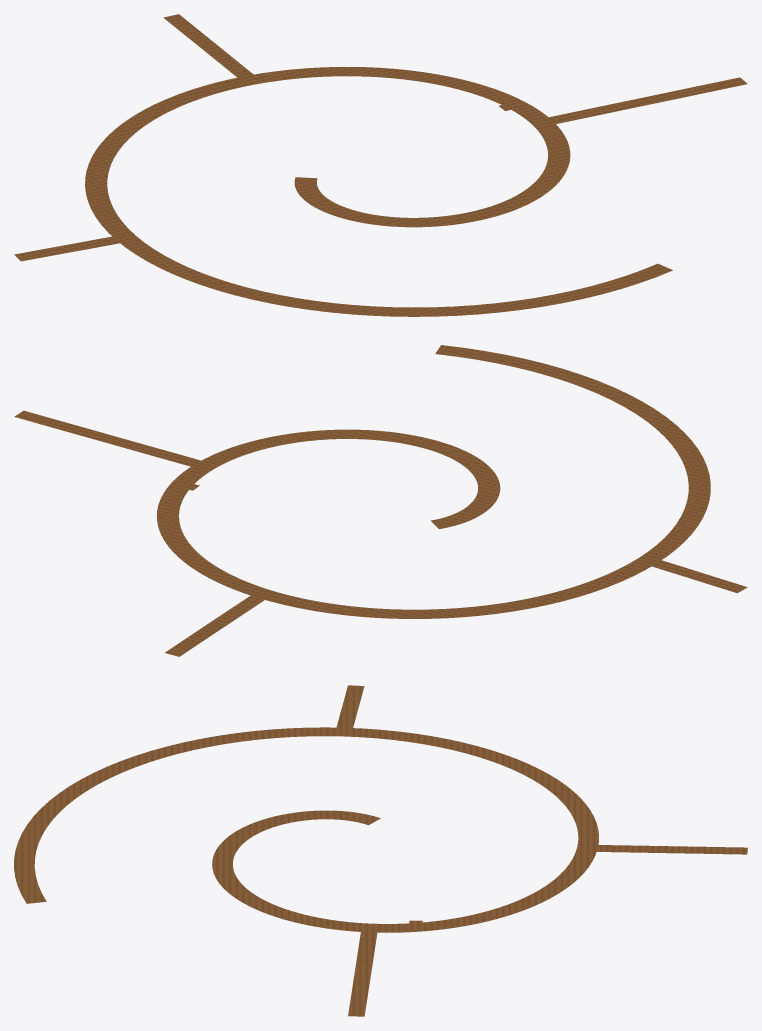
The model's file is SM_Souq_Street.fbx.
3 renders of one model, top to bottom at view 1: azimuth 30°, elevation 25°; view 2: azimuth 150°, elevation 25°; view 3: azimuth 270°, elevation 25°, orthographic. The views are drawn at different scales.
Visible parts, largest first — view 1: SM_Souq_Street; view 2: SM_Souq_Street; view 3: SM_Souq_Street.
Part boxes in pixels (x1,y1,x2,y2): SM_Souq_Street: [14, 14, 747, 316]; SM_Souq_Street: [14, 345, 747, 656]; SM_Souq_Street: [14, 685, 747, 1016].
Bounding box in the file's own units: 24126 × 0.1 × 22581.
Materials: 1 (1 with a texture image).
